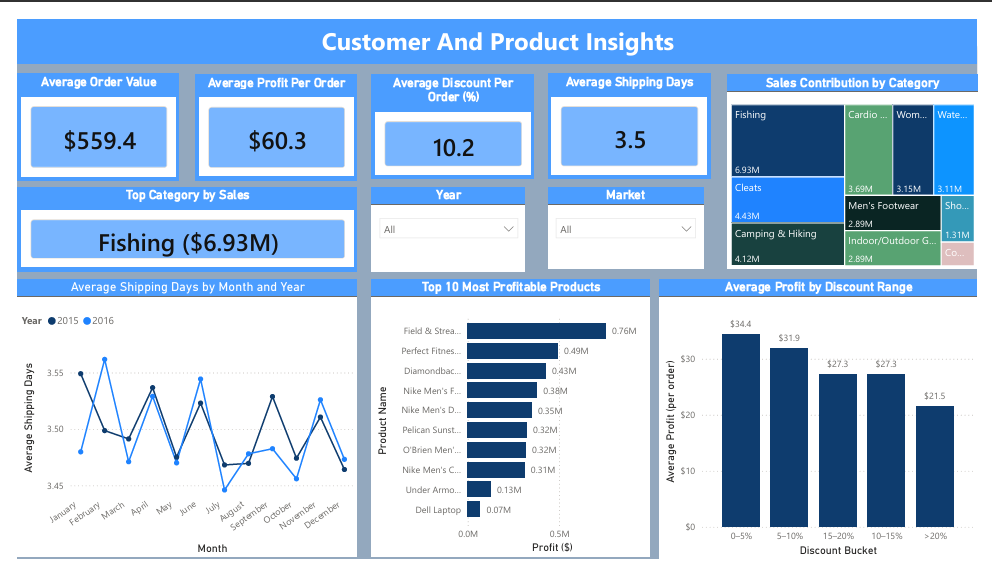

What the dashboard file says about the page in this screenshot:
{"tool":"powerbi","page":{"name":"Customer & Product Insight","canvas":[1280,720],"ordinal":1},"visuals":[{"type":"cardVisual","title":"Average Order Value","fields":{"Data":["DataCo_Cleaned.Average_Order_value"]},"box":[0,71.6,216.5,143.2],"z":0},{"type":"cardVisual","title":"Average Profit Per Order","fields":{"Data":["DataCo_Cleaned.Avg_Profit_per_Order"]},"box":[236.9,73.3,216.5,141.5],"z":1000},{"type":"cardVisual","title":"Average Discount Per Order (%)","fields":{"Data":["DataCo_Cleaned.Average_Discount"]},"box":[472.2,73.3,216.5,139.8],"z":2000},{"type":"textbox","box":[0,0,1280.3,58.7],"z":3000},{"type":"cardVisual","title":"Average Shipping Days","fields":{"Data":["DataCo_Cleaned.Average_Shipping_Days"]},"box":[707.4,71.6,216.5,141.5],"z":4000},{"type":"clusteredBarChart","title":"Top 10 Most Profitable Products","fields":{"Category":["DataCo_Cleaned.Product Name"],"Y":["DataCo_Cleaned.total_profit"]},"box":[472.2,346,371.6,369.9],"z":5000},{"type":"treemap","title":"Sales Contribution by Category","fields":{"Values":["Sum(DataCo_Cleaned.Sales)"],"Group":["DataCo_Cleaned.Category Name"]},"box":[946,73.3,334.1,259.1],"z":6000},{"type":"slicer","title":"Year","fields":{"Values":["DataCo_Cleaned.Year"]},"box":[472.2,223.3,204.5,112.5],"z":7000},{"type":"slicer","title":"Market","fields":{"Values":["DataCo_Cleaned.Market"]},"box":[707.4,223.3,206.3,109.1],"z":8000},{"type":"clusteredColumnChart","title":"Average Profit by Discount Range","fields":{"Category":["DataCo_Cleaned.Discount_Bucket"],"Y":["DataCo_Cleaned.Avg_Profit_per_Order"]},"box":[855.7,346,424.4,373.3],"z":9000},{"type":"lineChart","title":"Average Shipping Days by Month and Year","fields":{"Category":["DataCo_Cleaned.Month"],"Y":["DataCo_Cleaned.Average_Shipping_Days"],"Series":["DataCo_Cleaned.Year"]},"box":[0,346,453.4,369.9],"z":10000},{"type":"cardVisual","title":"Top Category by Sales","fields":{"Data":["DataCo_Cleaned.Top Category Summary"]},"box":[0,223.3,453.4,112.5],"z":11000}]}

Visuals, with their boxes in screenshot pixels (x1, y1, x2, y2), scaled from the page's 1280x720 canvas onto the 992x573 screenshot:
"Average Order Value" cardVisual: [0, 57, 168, 171]
"Average Profit Per Order" cardVisual: [184, 58, 351, 171]
"Average Discount Per Order (%)" cardVisual: [366, 58, 534, 170]
textbox: [0, 0, 991, 47]
"Average Shipping Days" cardVisual: [548, 57, 716, 170]
"Top 10 Most Profitable Products" clusteredBarChart: [366, 275, 654, 570]
"Sales Contribution by Category" treemap: [733, 58, 991, 265]
"Year" slicer: [366, 178, 524, 267]
"Market" slicer: [548, 178, 708, 265]
"Average Profit by Discount Range" clusteredColumnChart: [663, 275, 991, 572]
"Average Shipping Days by Month and Year" lineChart: [0, 275, 351, 570]
"Top Category by Sales" cardVisual: [0, 178, 351, 267]
